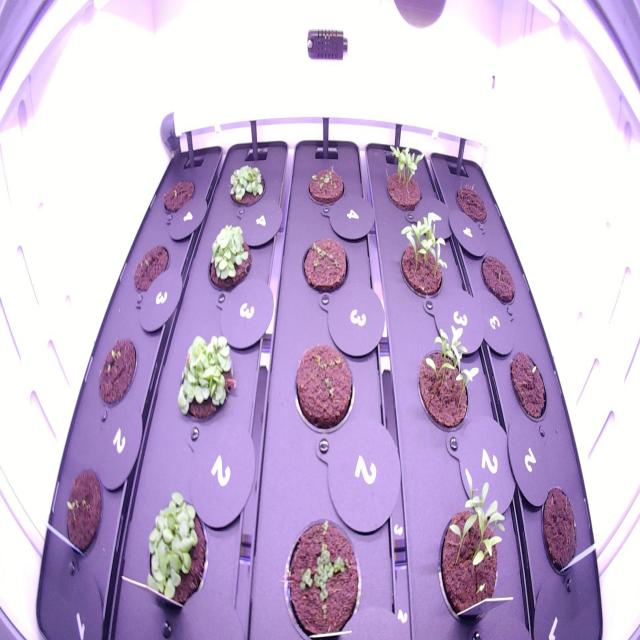germination: (432, 462, 511, 632), (276, 509, 364, 638), (408, 314, 481, 444), (288, 337, 360, 440), (390, 199, 452, 306), (58, 463, 107, 564), (504, 347, 553, 433), (90, 329, 141, 411), (378, 138, 430, 218), (295, 232, 352, 300), (301, 158, 347, 211)
pod: (536, 478, 584, 586), (476, 249, 519, 313), (130, 238, 172, 302), (158, 171, 200, 224), (452, 178, 491, 232)
